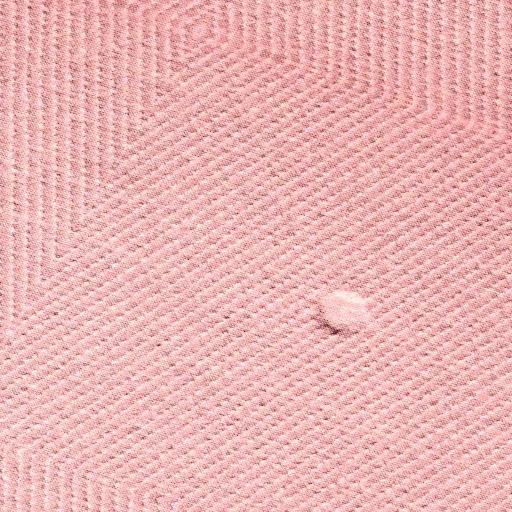knot: (314, 288, 384, 339)
